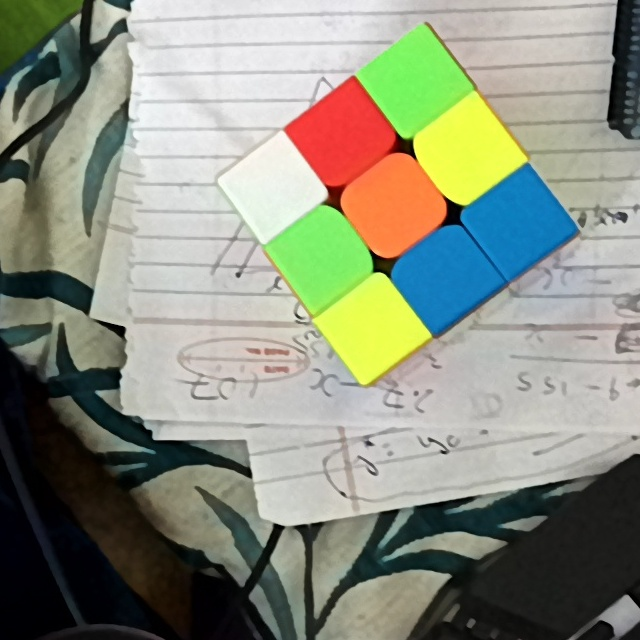tile: (364, 173, 424, 236), (310, 106, 373, 165), (292, 227, 351, 287), (439, 123, 497, 181), (343, 296, 400, 355), (385, 55, 445, 111), (247, 156, 302, 217), (495, 190, 549, 251), (421, 248, 475, 305)
